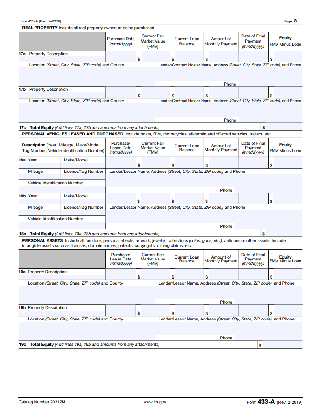textbox: (104, 202, 304, 230), (105, 167, 304, 195), (154, 60, 305, 88), (154, 315, 304, 342), (17, 60, 157, 88), (154, 97, 304, 123), (17, 96, 156, 124), (17, 314, 156, 342), (17, 279, 157, 305), (15, 178, 107, 195), (17, 84, 108, 100), (17, 214, 107, 230), (19, 266, 107, 282), (17, 303, 107, 318), (17, 50, 107, 64), (58, 202, 107, 217), (59, 166, 107, 181), (59, 191, 107, 206), (58, 155, 108, 169), (17, 191, 63, 206), (16, 202, 62, 217), (16, 166, 62, 180), (17, 155, 62, 169), (102, 302, 139, 319), (169, 155, 206, 171), (135, 190, 172, 206), (203, 190, 240, 206), (234, 189, 271, 205), (169, 266, 206, 282), (203, 266, 240, 282), (236, 266, 273, 282), (267, 266, 304, 282), (135, 302, 172, 318), (168, 302, 205, 318), (203, 302, 240, 318), (234, 301, 271, 317), (267, 301, 304, 317), (234, 154, 272, 169), (101, 191, 139, 206), (169, 84, 206, 99), (268, 84, 305, 99), (135, 155, 172, 170), (203, 155, 240, 170), (268, 154, 305, 169), (168, 191, 205, 206), (267, 191, 304, 206), (134, 267, 171, 282), (259, 226, 305, 238), (135, 49, 171, 64), (169, 48, 205, 63), (204, 48, 240, 63), (266, 48, 302, 63), (135, 84, 171, 99), (256, 339, 305, 350), (103, 266, 138, 281), (203, 85, 240, 99), (235, 85, 272, 99), (104, 49, 138, 64), (103, 84, 137, 99), (237, 48, 270, 63), (259, 121, 304, 132), (104, 155, 138, 168)
